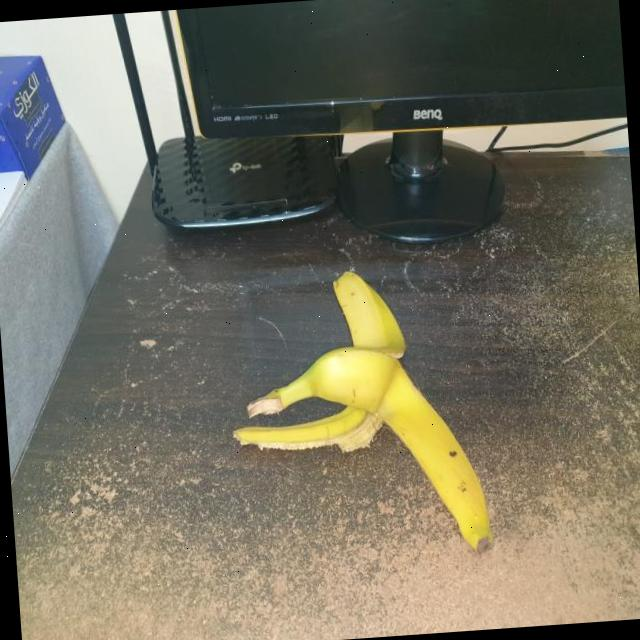banana-peel: (220, 259, 494, 569)
